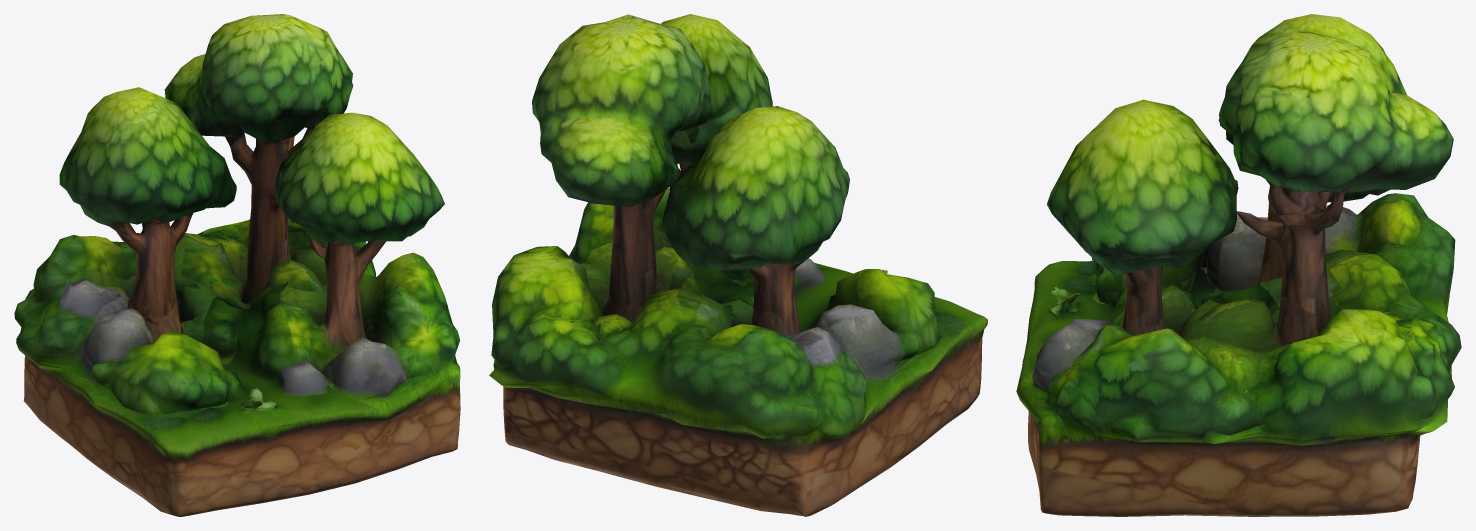
The model's file is veg_forest_tile.glb.
The picture shows the model from 3 angles, left to right: view 1: azimuth 30°, elevation 25°; view 2: azimuth 150°, elevation 25°; view 3: azimuth 270°, elevation 25°; orthographic projection. The views are drawn at different scales.
Parts seen in each view (by area): view 1: Forest tile; view 2: Forest tile; view 3: Forest tile.
Boxes of the visible parts, bbox=[...] form: Forest tile: bbox=[14, 14, 460, 516]; Forest tile: bbox=[489, 14, 987, 516]; Forest tile: bbox=[1016, 14, 1461, 516].
Bounding box in the file's own units: 1.78 × 1.9 × 1.76.
1 material, 1 textured.
